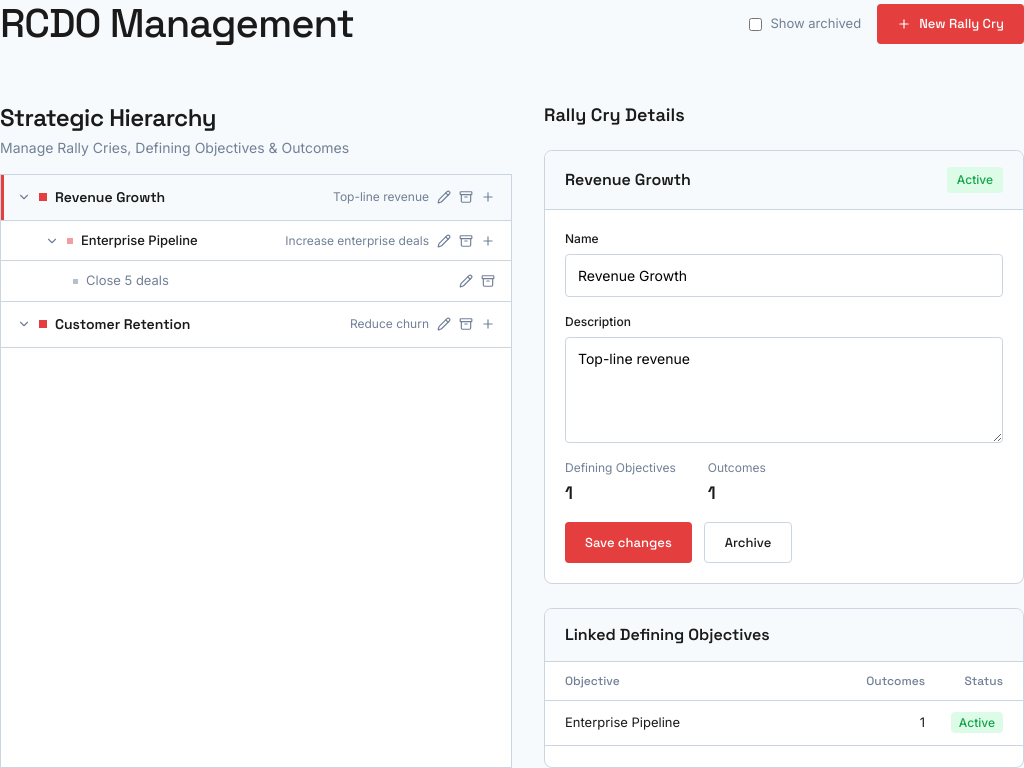
Test: StrategyManagementPage › API error during creation shows ErrorToast
Click the button with test id "create-rally-cry-btn" at (951, 24), box [877, 4, 1023, 44]
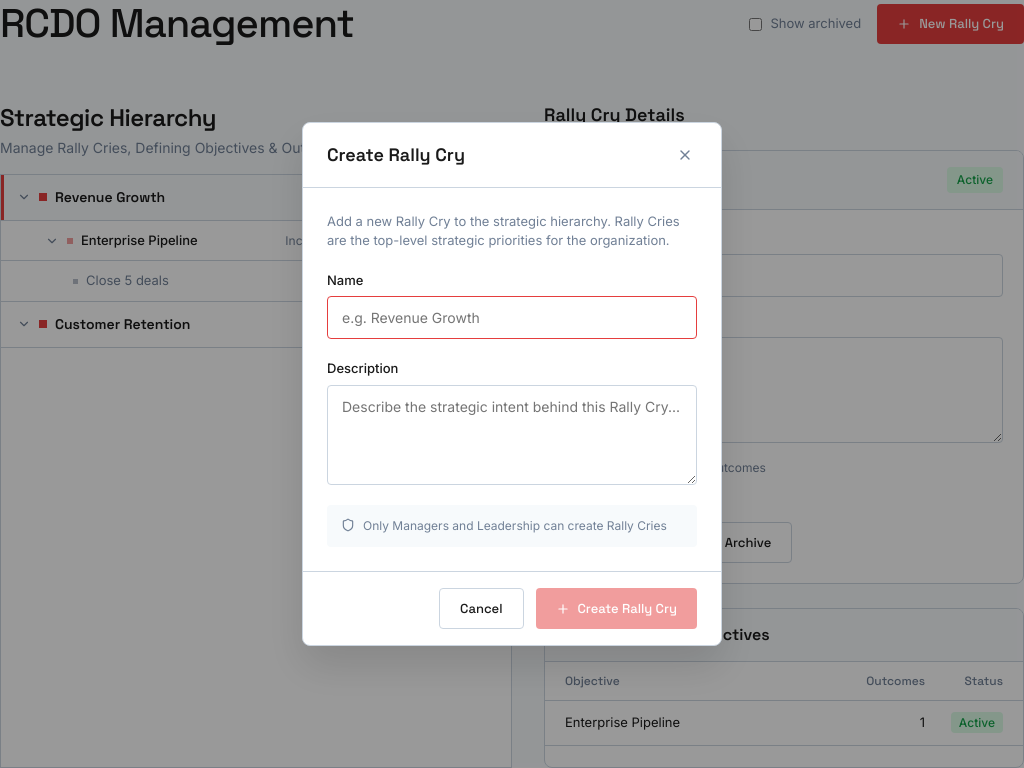
Type "Test" into the field with placeholder "e.g. Revenue Growth" at (512, 318), box [327, 296, 697, 339]
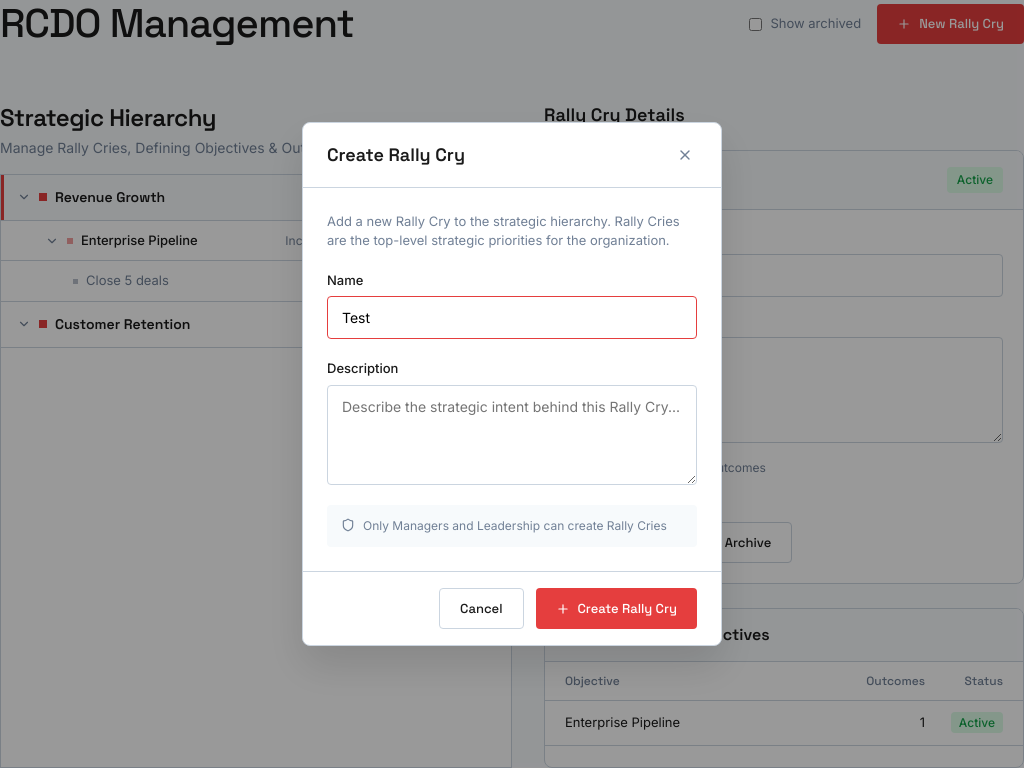
Click the button with test id "create-rally-cry-submit" at (616, 609), box [536, 588, 697, 629]
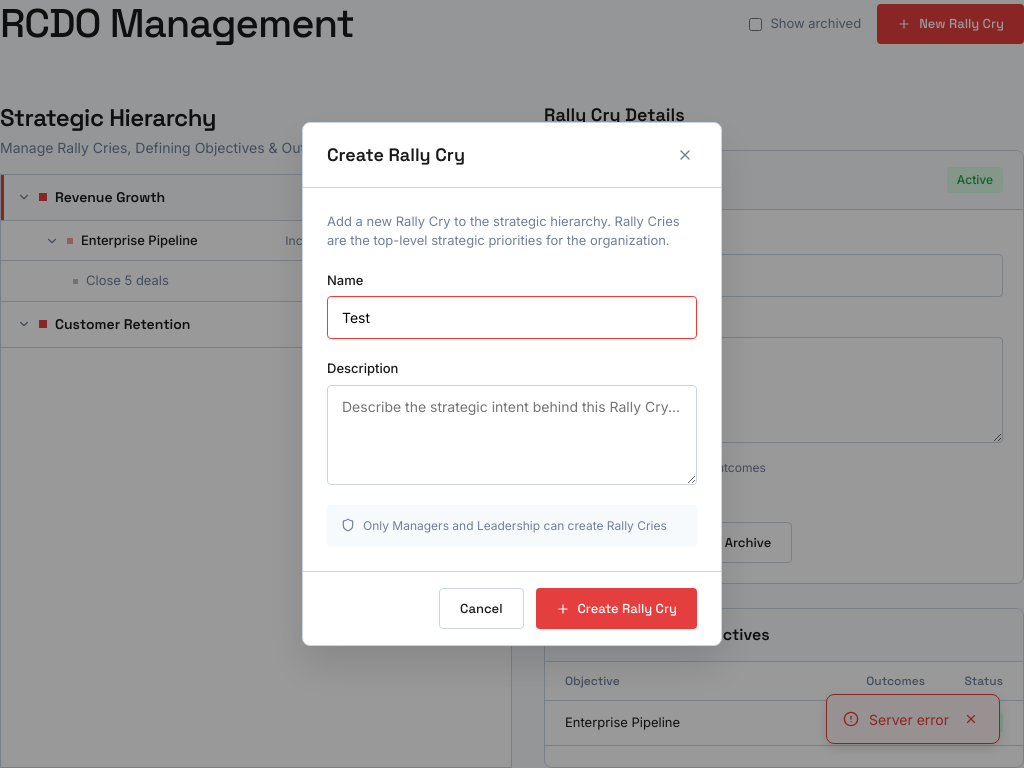
Expected: the text "Server error" is shown, [869, 708, 949, 730]
